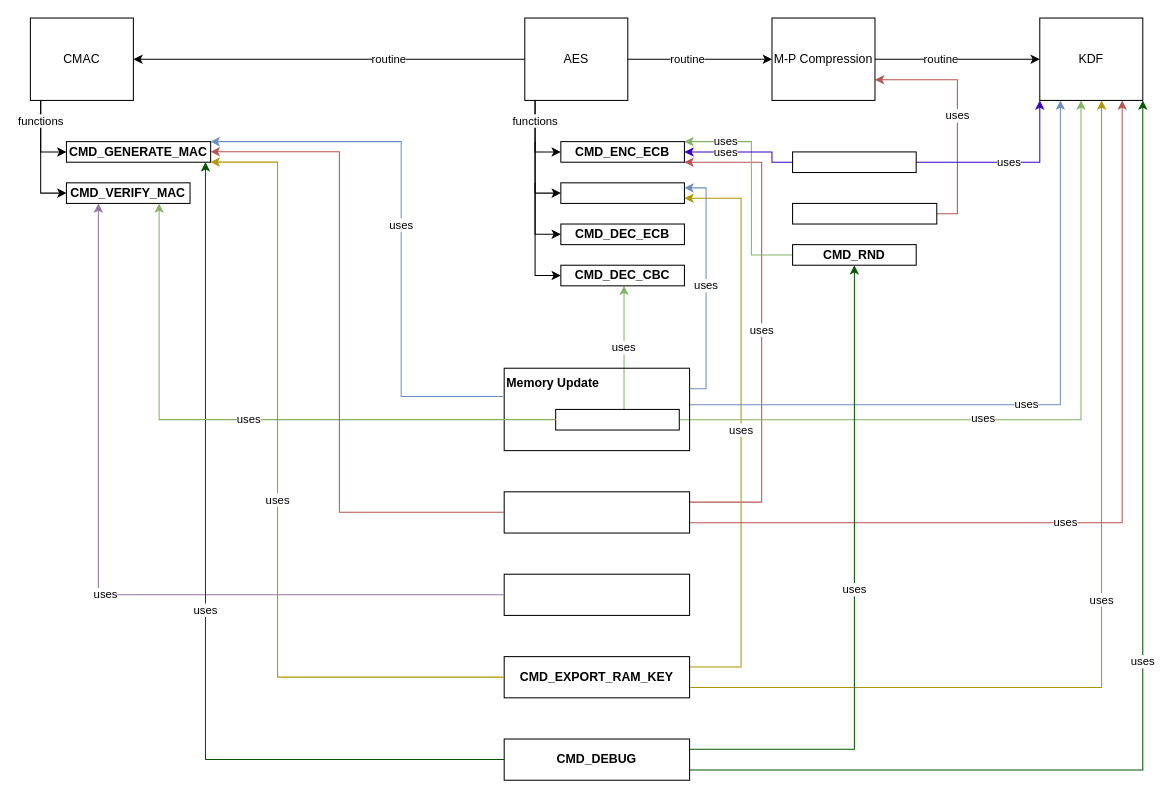
This 1172x798 diagram has some shape labels left out. Here are the shapes that lost their labels. From the top down, the centre of each, then its label:
(x=854, y=162): CMD_INIT_RNG
(x=622, y=192): CMD_ENC_CBC
(x=864, y=213): CMD_EXTEND_SEED
(x=617, y=419): CMD_LOAD_KEY
(x=596, y=512): Memory Update Verification
(x=596, y=594): CMD_SECURE_BOOT
